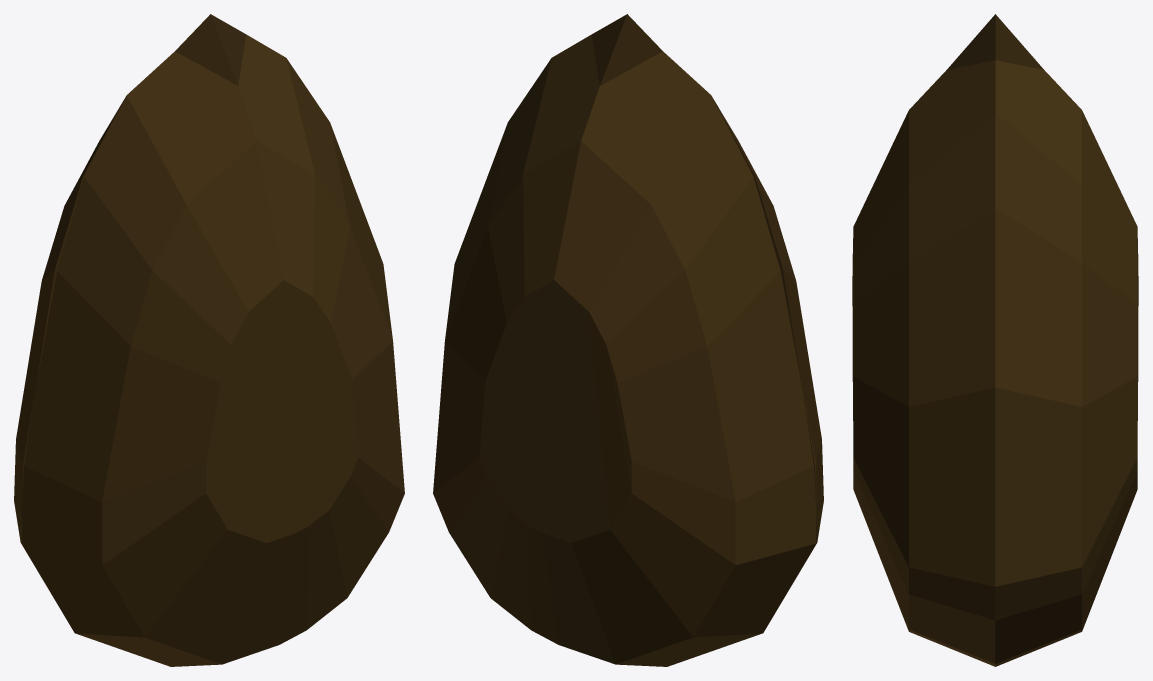
File: Seed.fbx
3 renders of one model, left to right at view 1: azimuth 30°, elevation 25°; view 2: azimuth 150°, elevation 25°; view 3: azimuth 270°, elevation 25°, orthographic.
Visible parts, largest first — view 1: Seed; view 2: Seed; view 3: Seed.
Part boxes in pixels (x1,y1,x2,y2): Seed: (14,14,404,666); Seed: (433,14,823,666); Seed: (852,14,1138,666).
Bounding box in the file's own units: 214 × 348 × 141.
